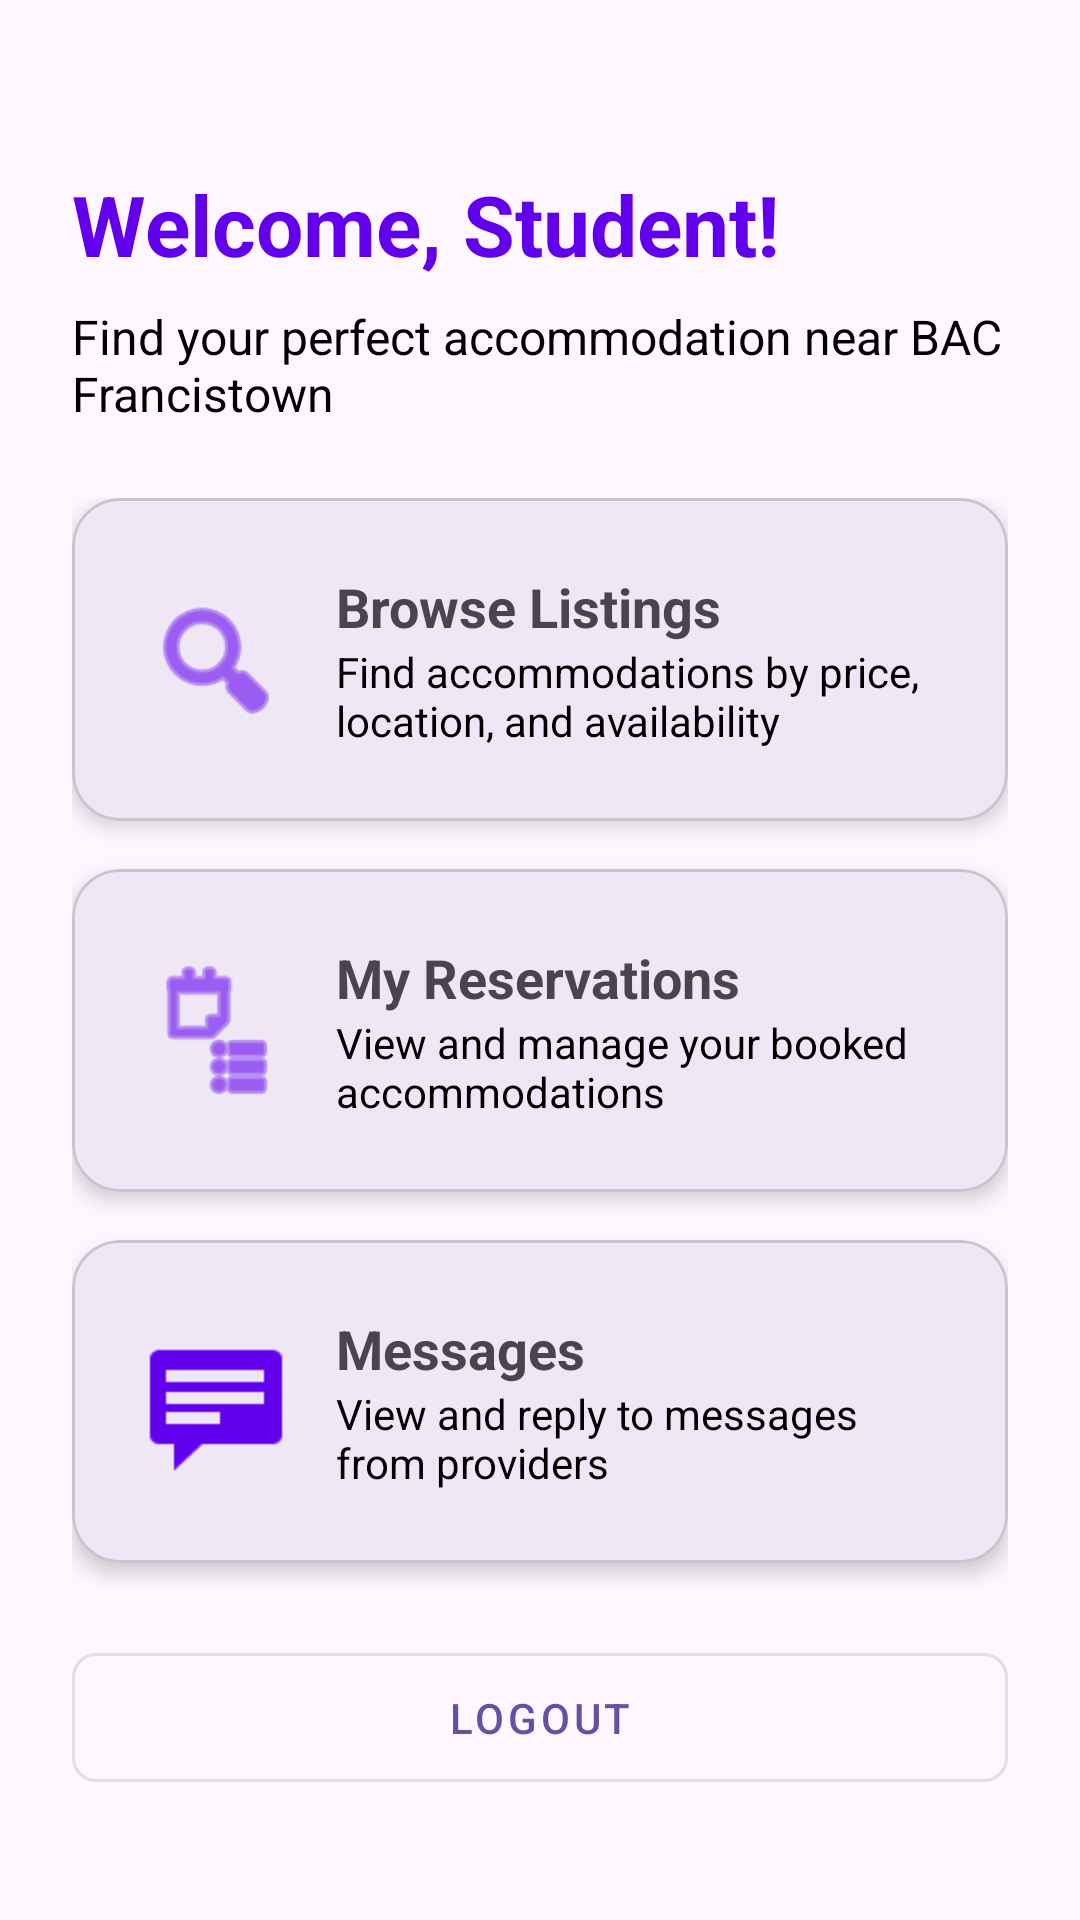

Where icons sit on this 1080×1920 app screen, as (x1, y1, x2, y2):
agenda: (166, 966, 267, 1094)
chat: (149, 1349, 283, 1471)
search: (163, 607, 269, 714)
